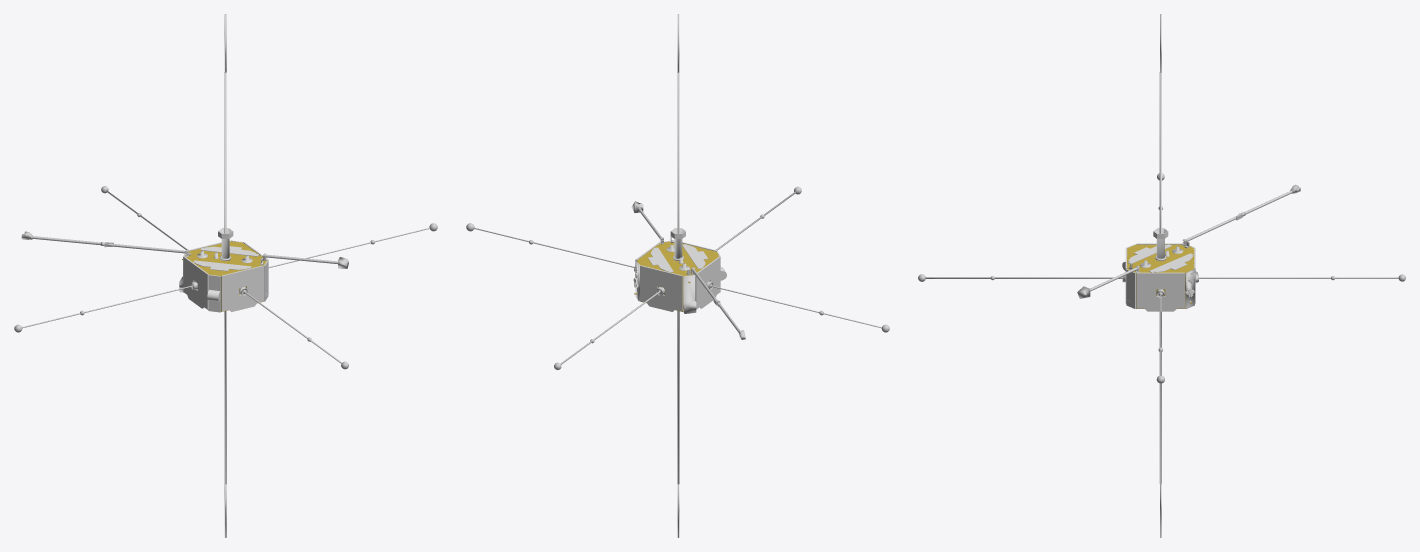
The model's file is THEMIS.fbx.
3 renders of one model, left to right at view 1: azimuth 30°, elevation 25°; view 2: azimuth 150°, elevation 25°; view 3: azimuth 270°, elevation 25°, orthographic.
Visible parts, largest first — view 1: Themis; view 2: Themis; view 3: Themis.
Boxes of the visible parts, left/top/right/bottom form: Themis: left=14, top=14, right=437, bottom=537; Themis: left=466, top=14, right=889, bottom=537; Themis: left=918, top=14, right=1405, bottom=537.
Size of the model in its own units: 609 by 721 by 609.
